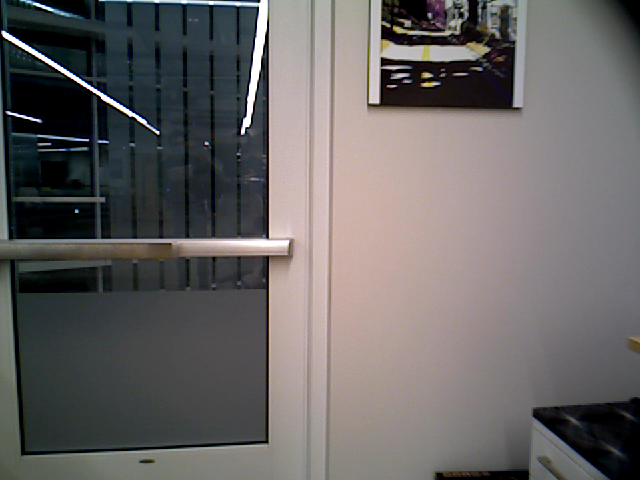painting3: (371, 1, 520, 105)
